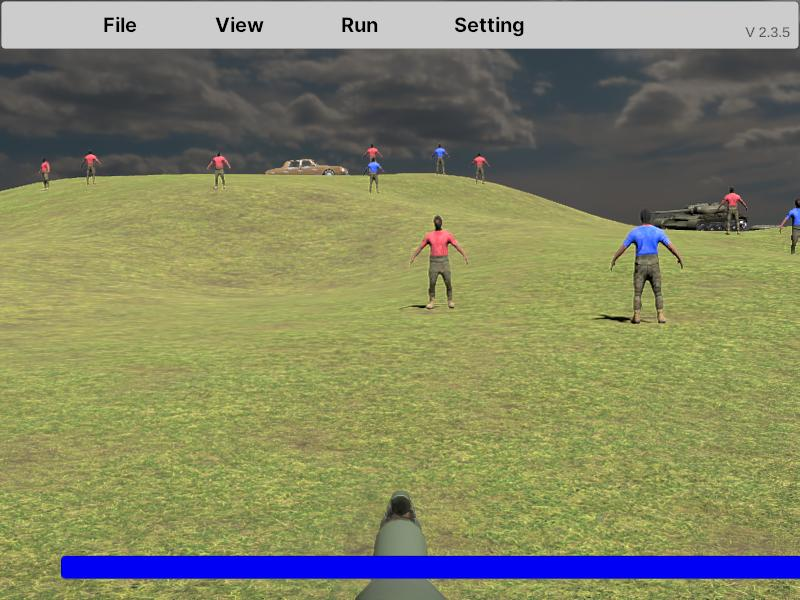Human: (610, 208, 682, 325), (410, 215, 467, 310), (718, 186, 748, 236), (780, 198, 800, 266)
Tank: (639, 202, 750, 234)
